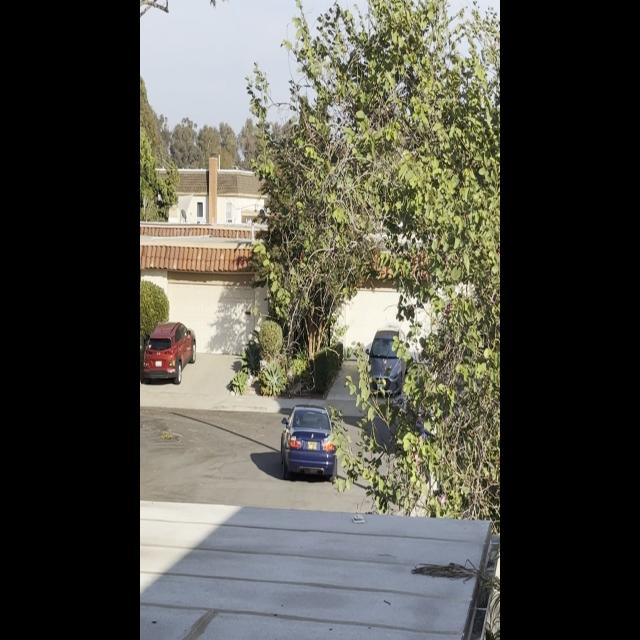Carbeetle: (273, 401, 346, 490)
Civilian: (140, 318, 199, 383), (363, 320, 409, 403)
